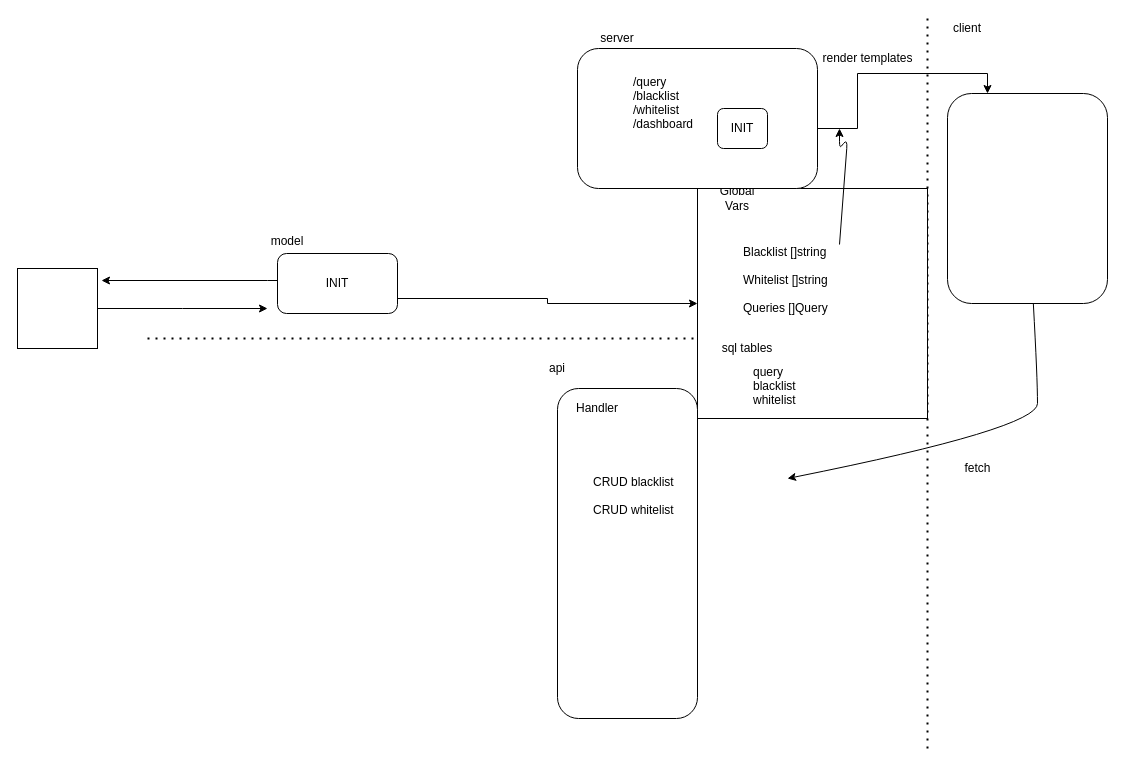
Image size: 1125x767. Some labels were removed from this diagram. Each missing label, with the centre of its shape:
"DB" belongs at (x=57, y=308).
"query.html blacklist.html whitelist.html dashboard.html _script.html" belongs at (x=1027, y=198).
